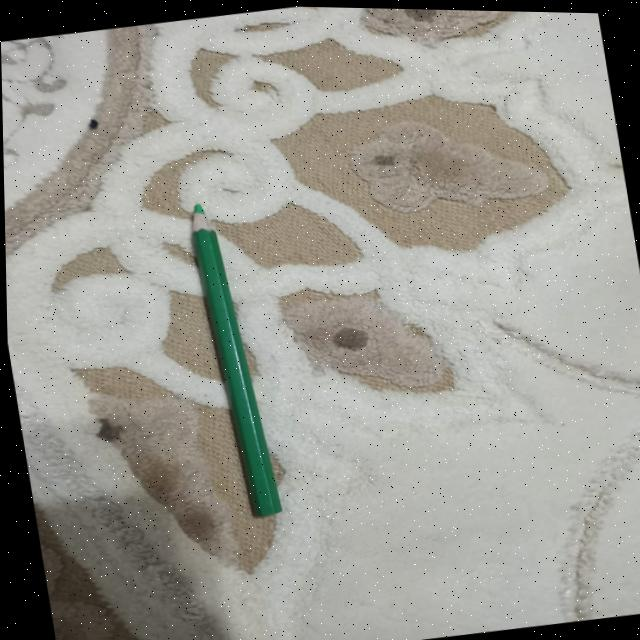pencil: (191, 203, 279, 516)
